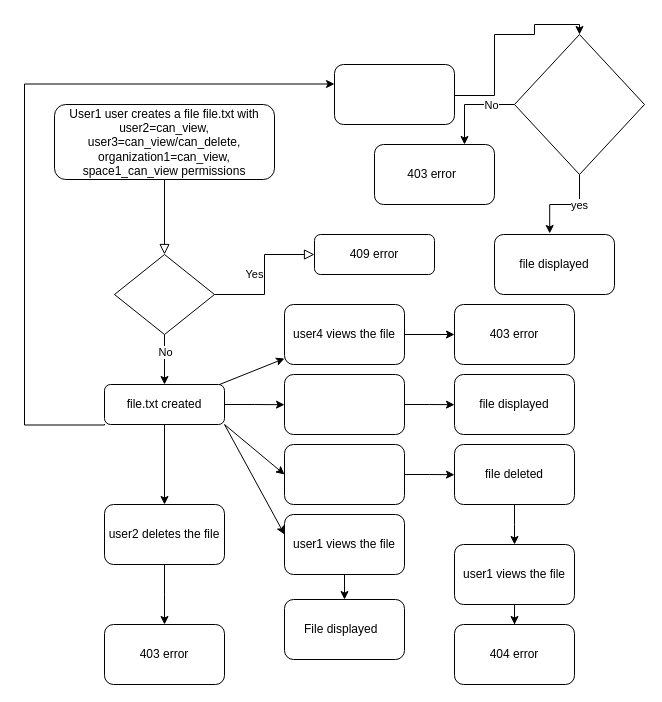
Image size: 662x702. Some labels were removed from this diagram. Each missing label, with the box of its shape:
arbitrary user views file: (334, 64, 454, 124)
File already exists?: (114, 254, 214, 334)
the user belongs to organization1 or space1?: (514, 34, 644, 174)
user3 deletes the file: (284, 444, 404, 504)
user3 views the file: (284, 374, 404, 434)
